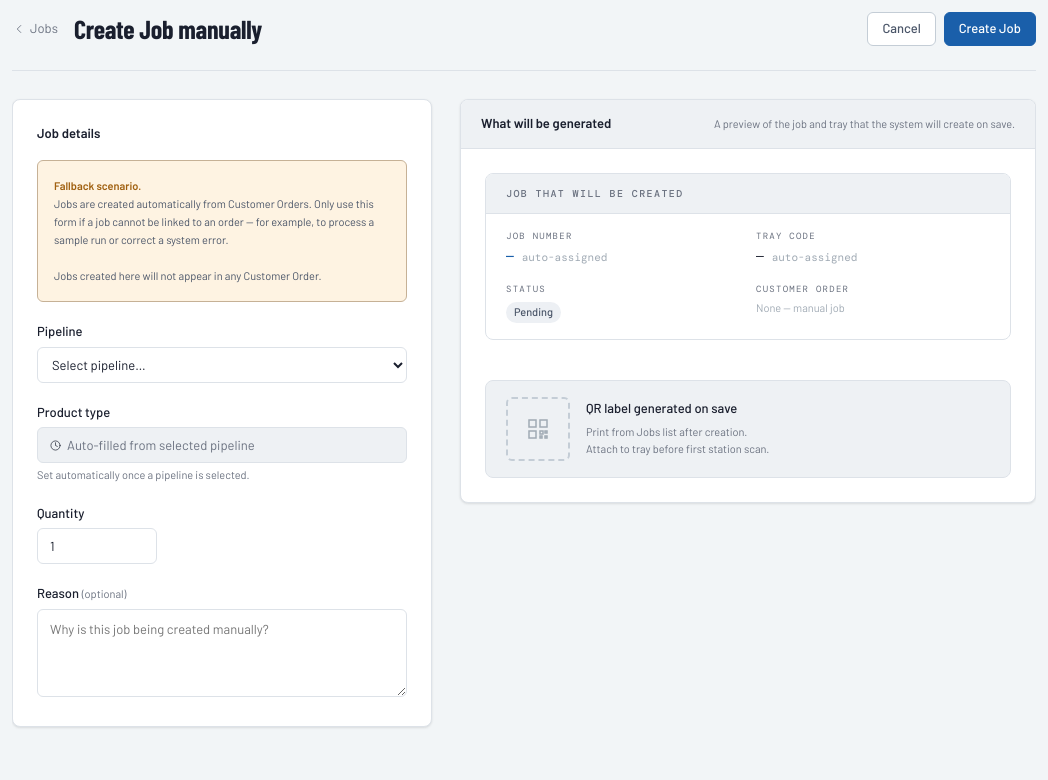
Test case: NewJobManualView › shows validation error when pipeline is not selected
What coordinates should you click on to do the following:
click the button "Create Job"
I would click on:
 (990, 29)
Its box is top-left (944, 12), bottom-right (1036, 46).
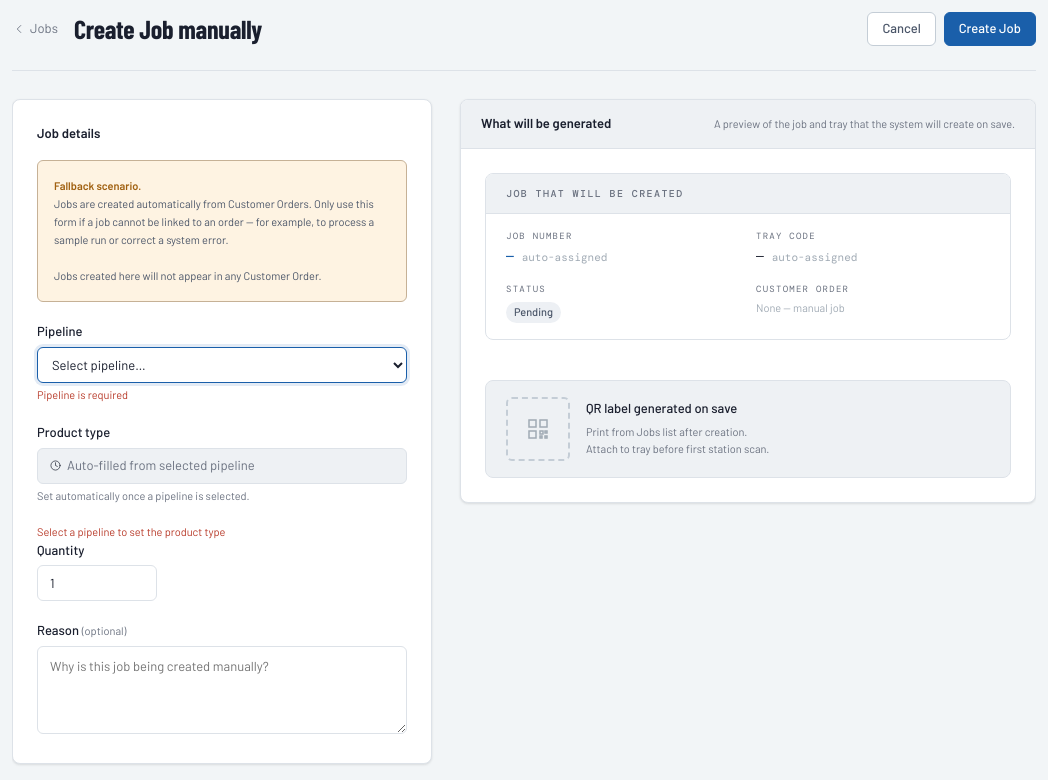
Now the text "Pipeline is required" is shown, box top-left (37, 388), bottom-right (128, 401)
